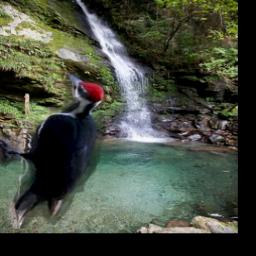Woodpecker: (0, 72, 105, 229)
